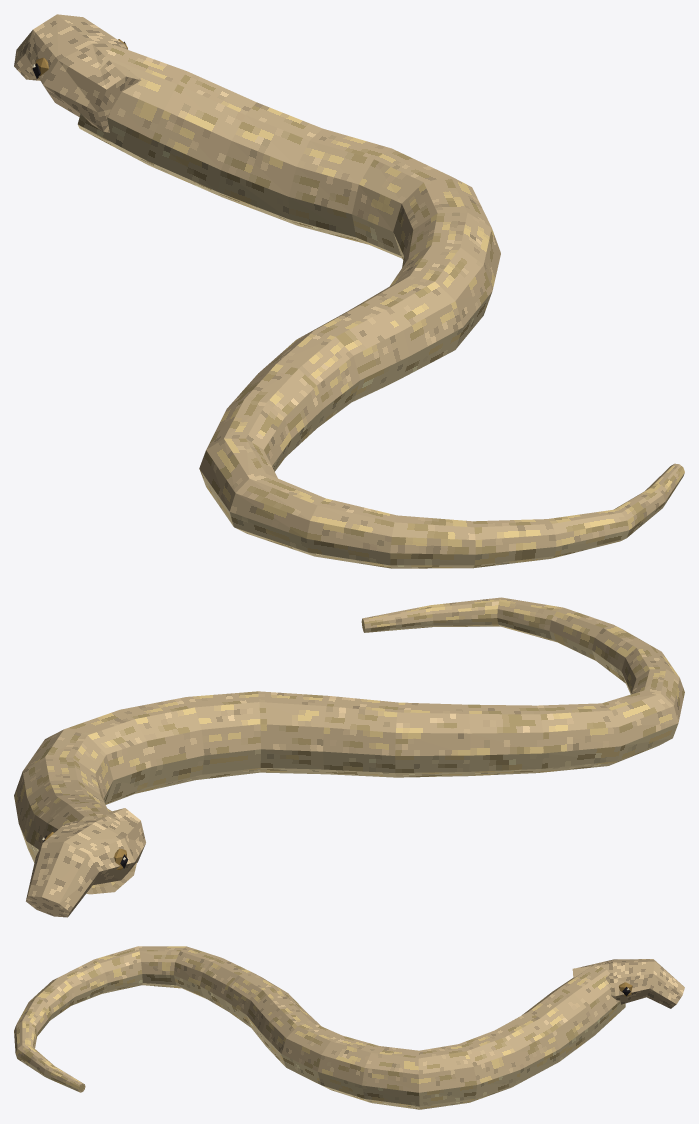
File: mon_sewer_snake.glb
3 views of the same model, one above another, from view 1: azimuth 30°, elevation 25°; view 2: azimuth 150°, elevation 25°; view 3: azimuth 270°, elevation 25° (orthographic). The views are drawn at different scales.
Parts seen in each view (by area): view 1: closed_body; view 2: closed_body; view 3: closed_body.
Part boxes in pixels (left/top/right/bottom): closed_body: left=14, top=14, right=684, bottom=568; closed_body: left=14, top=597, right=684, bottom=917; closed_body: left=14, top=946, right=684, bottom=1109.
Bounding box in the file's own units: 1.2 × 0.359 × 2.4.
1 material, 1 textured.
